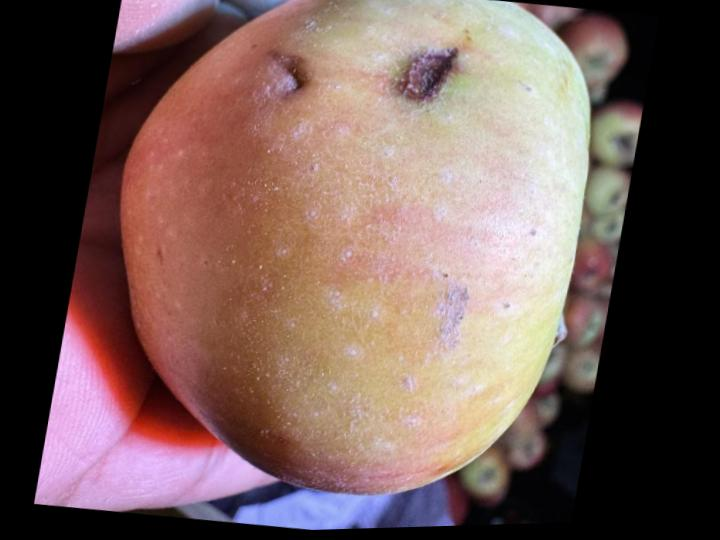apple: (121, 0, 589, 493)
surface_damage: (392, 47, 456, 108), (268, 46, 311, 99)
